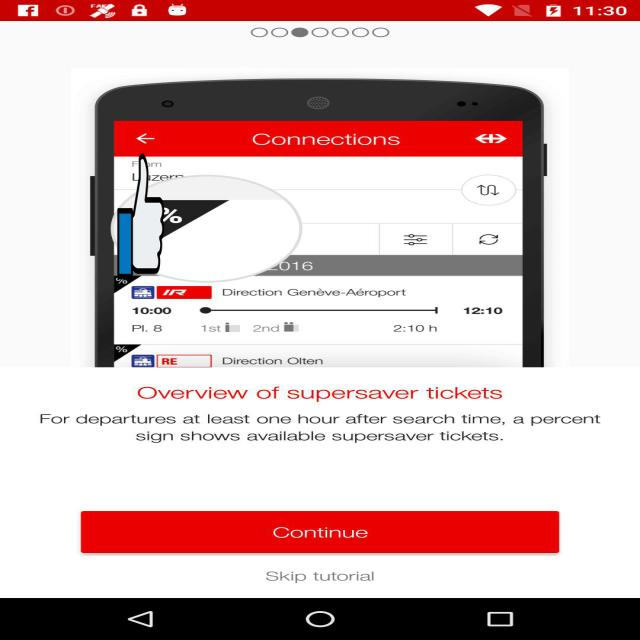privacy zuckering: (117, 151, 164, 282)
